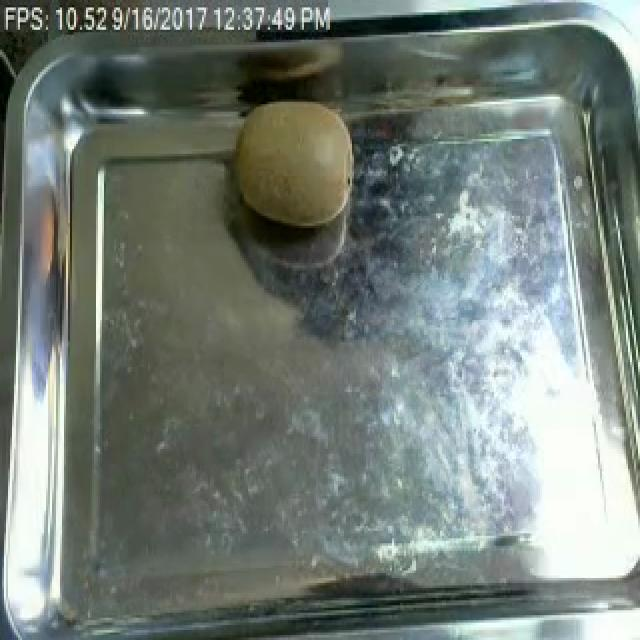Fruit: (224, 87, 368, 236)
